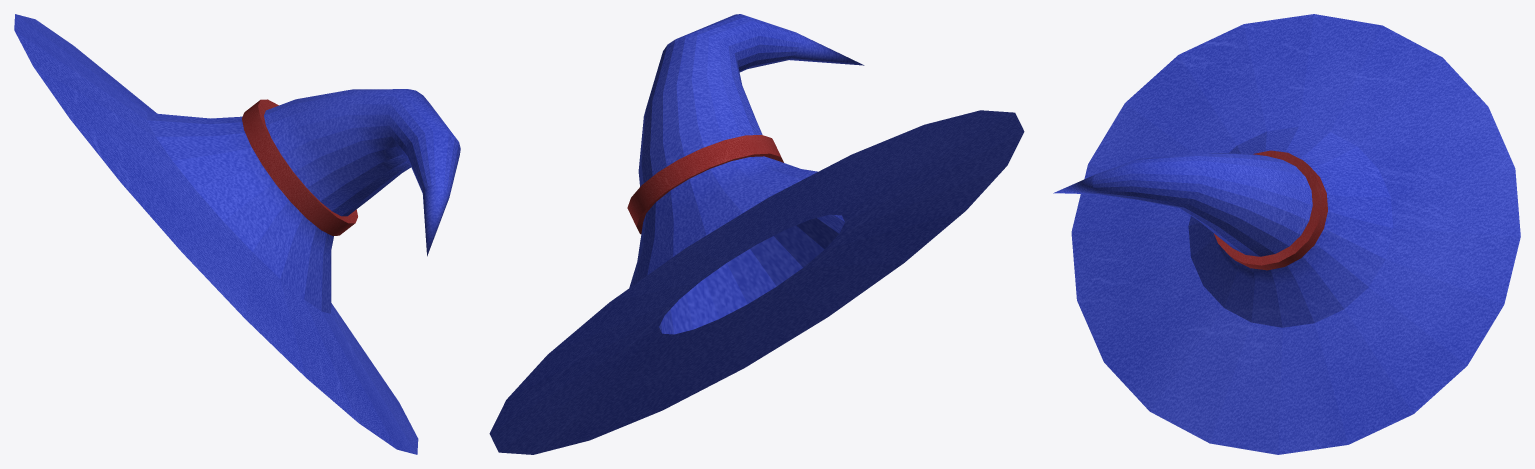
Rendered from Wizard Hat.fbx.
The picture shows the model from 3 angles, left to right: view 1: azimuth 30°, elevation 25°; view 2: azimuth 150°, elevation 25°; view 3: azimuth 270°, elevation 25°; orthographic projection. The views are drawn at different scales.
Visible parts, largest first — view 1: Wizard_Hat:Wizard_Hat1; view 2: Wizard_Hat:Wizard_Hat1; view 3: Wizard_Hat:Wizard_Hat1.
Boxes of the visible parts, x1,y1,x2,y2 form: Wizard_Hat:Wizard_Hat1: [14, 14, 460, 454]; Wizard_Hat:Wizard_Hat1: [489, 14, 1024, 454]; Wizard_Hat:Wizard_Hat1: [1053, 14, 1520, 454].
Size of the model in its own units: 0.7549 by 0.8064 by 1.1.
